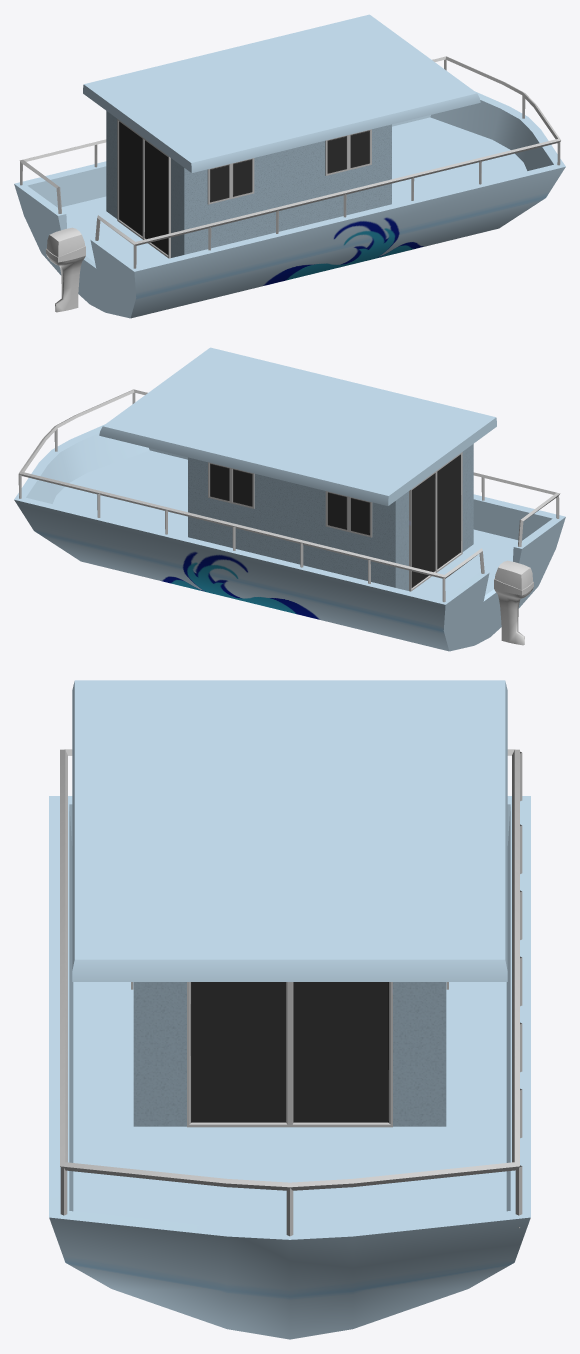
The model's file is Houseboat_Final.FBX.
The picture shows the model from 3 angles, top to bottom: view 1: azimuth 30°, elevation 25°; view 2: azimuth 150°, elevation 25°; view 3: azimuth 270°, elevation 25°; orthographic projection. The views are drawn at different scales.
Visible parts, largest first — view 1: boat, engine; view 2: boat, engine; view 3: boat.
Part boxes in pixels (<box>): boat: <box>14,14,565,318</box>; engine: <box>46,227,85,312</box>; boat: <box>14,347,565,651</box>; engine: <box>494,560,533,645</box>; boat: <box>49,680,530,1339</box>.
Size of the model in its own units: 525 by 178 by 230.
